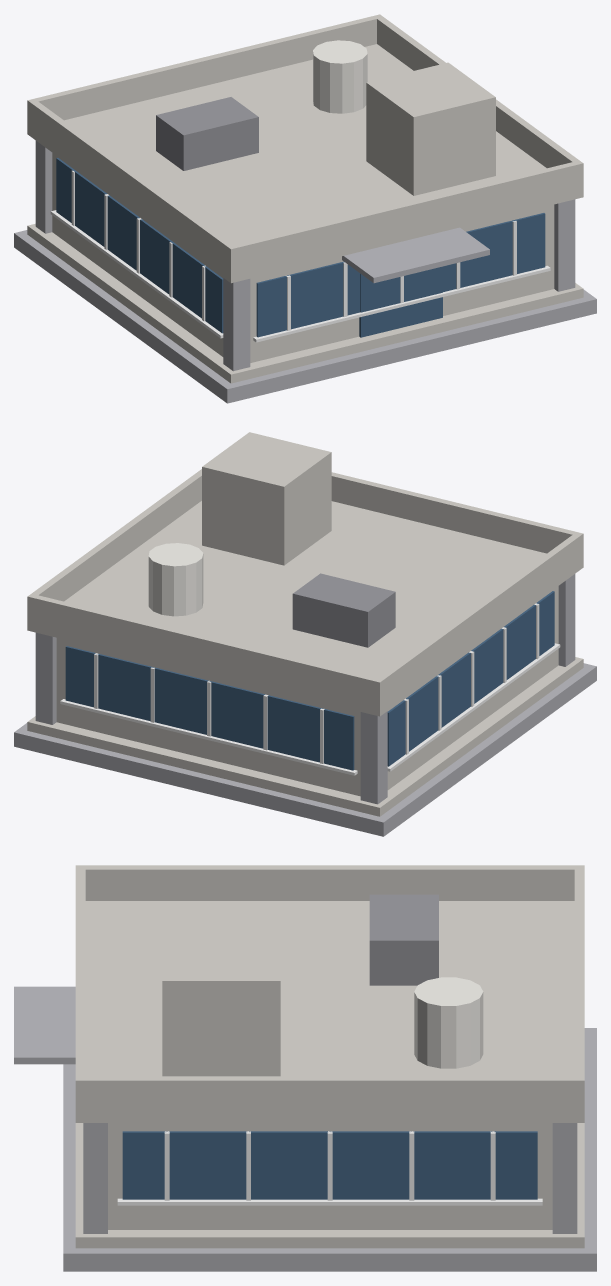
File: building.glb
The picture shows the model from 3 angles, top to bottom: view 1: azimuth 30°, elevation 25°; view 2: azimuth 150°, elevation 25°; view 3: azimuth 270°, elevation 25°; orthographic projection. The views are drawn at different scales.
Parts seen in each view (by area): view 1: roof_slab, stair_hut, foundation, parapet_0, core, band_front, floor_slab, parapet_1, band_left, parapet_2, hvac, canopy (+8 smaller); view 2: roof_slab, band_back, stair_hut, core, foundation, parapet_1, floor_slab, band_left, parapet_0, parapet_2, hvac, parapet_3 (+6 smaller); view 3: roof_slab, band_right, foundation, parapet_3, stair_hut, core, parapet_2, floor_slab, hvac, tank, canopy, sill_right (+4 smaller).
Part boxes in pixels (x1,y1,x2,y2): roof_slab: [27, 44, 583, 283]; stair_hut: [366, 62, 495, 195]; foundation: [14, 230, 596, 403]; parapet_0: [227, 160, 583, 274]; core: [52, 153, 554, 362]; band_front: [256, 213, 545, 337]; floor_slab: [27, 223, 583, 383]; parapet_1: [27, 14, 383, 127]; band_left: [56, 158, 223, 333]; parapet_2: [27, 99, 237, 273]; hvac: [156, 97, 258, 170]; canopy: [342, 227, 489, 283]; roof_slab: [27, 501, 583, 716]; band_back: [65, 646, 354, 770]; stair_hut: [202, 432, 331, 565]; core: [56, 586, 558, 796]; foundation: [14, 663, 596, 836]; parapet_1: [27, 593, 383, 707]; floor_slab: [27, 657, 583, 816]; band_left: [387, 591, 554, 766]; parapet_0: [331, 472, 583, 558]; parapet_2: [373, 533, 583, 707]; hvac: [292, 573, 395, 647]; parapet_3: [27, 469, 201, 622]; roof_slab: [75, 901, 584, 1122]; band_right: [122, 1131, 537, 1199]; foundation: [63, 1028, 596, 1271]; parapet_3: [75, 1076, 584, 1111]; stair_hut: [162, 931, 280, 1076]; core: [108, 1123, 552, 1229]; parapet_2: [79, 865, 583, 900]; floor_slab: [75, 1123, 584, 1248]; hvac: [369, 894, 438, 985]; tank: [414, 977, 483, 1068]; canopy: [14, 986, 75, 1064]; sill_right: [117, 1198, 542, 1205].
Bounding box in the file's own units: 10.8 × 5.65 × 11.8.
